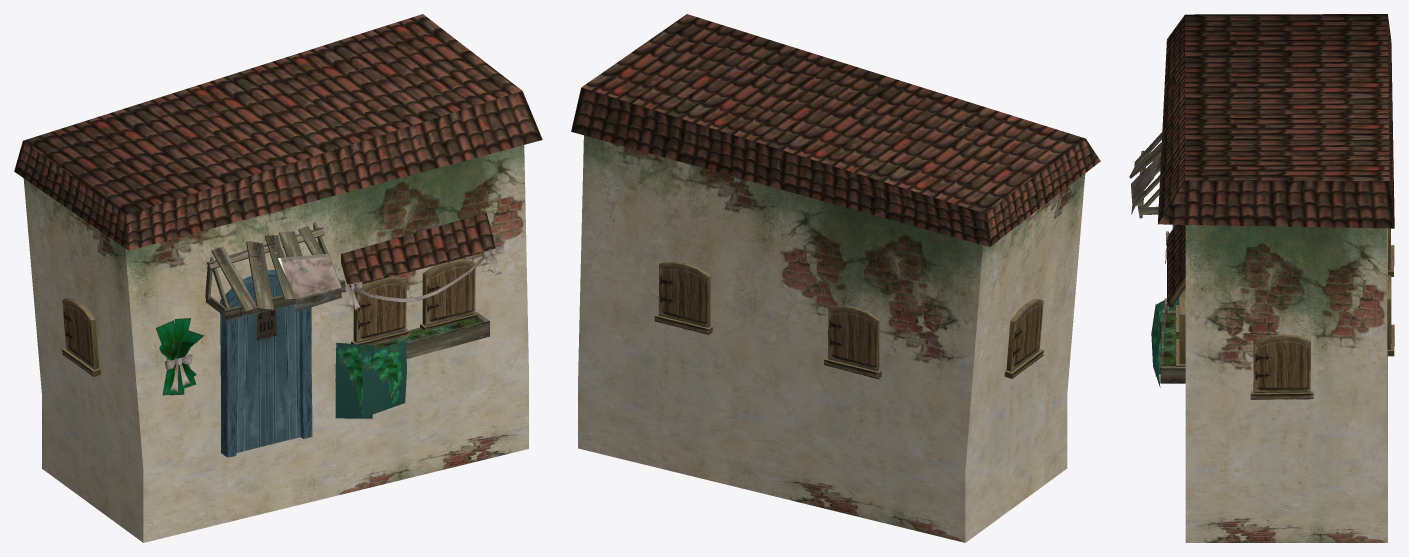
The model's file is spanish_npc_house_b_exterior.fbx.
3 renders of one model, left to right at view 1: azimuth 30°, elevation 25°; view 2: azimuth 150°, elevation 25°; view 3: azimuth 270°, elevation 25°, orthographic.
Visible parts, largest first — view 1: walls, roof.001, door_left, High_roof_polySurface12_polySurface16, door_frame, window.001, window, vine3, awning, vine6, window_seal, window.005 (+4 smaller); view 2: walls, roof.001, window.003, window.004, window.005; view 3: walls, roof.001, window.002, High_roof_polySurface12_polySurface16, window_seal, awning, vine3, window.001, window1.002, window.003.
Boxes of the visible parts, x1,y1,x2,y2 form: walls: [23, 145, 528, 542]; roof.001: [14, 14, 542, 250]; door_left: [236, 283, 301, 452]; High_roof_polySurface12_polySurface16: [341, 212, 495, 287]; door_frame: [220, 270, 312, 457]; window.001: [422, 259, 475, 325]; window: [353, 276, 406, 342]; vine3: [361, 340, 406, 417]; awning: [278, 253, 341, 312]; vine6: [335, 342, 373, 418]; window_seal: [373, 312, 489, 358]; window.005: [62, 298, 99, 369]; walls: [578, 135, 1085, 542]; roof.001: [571, 14, 1100, 246]; window.003: [658, 261, 710, 327]; window.004: [828, 305, 879, 371]; window.005: [1006, 299, 1043, 371]; walls: [1185, 225, 1387, 542]; roof.001: [1158, 14, 1394, 228]; window.002: [1253, 334, 1310, 392]; High_roof_polySurface12_polySurface16: [1167, 224, 1185, 306]; window_seal: [1160, 310, 1185, 383]; awning: [1131, 154, 1161, 214]; vine3: [1151, 304, 1161, 387]; window.001: [1179, 290, 1185, 364]; window1.002: [1250, 391, 1313, 399]; window.003: [1387, 275, 1391, 349].
Size of the model in its own units: 2972 by 2463 by 1646.
Materials: 3 (3 with a texture image).
